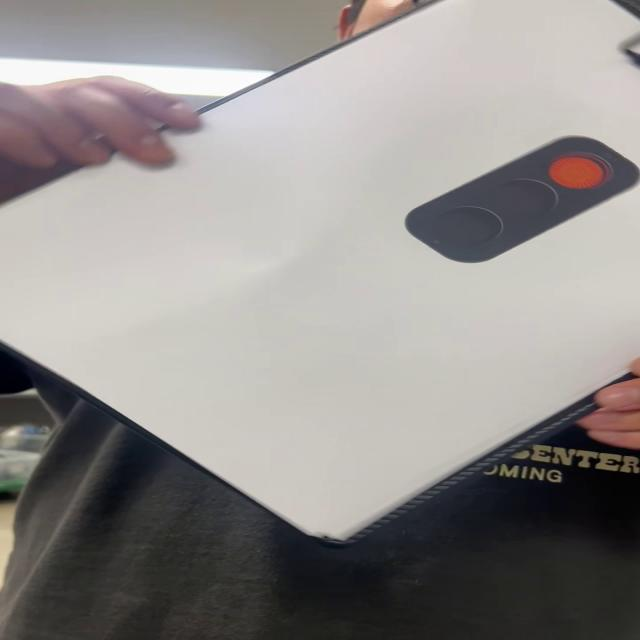red: (398, 139, 640, 266)
